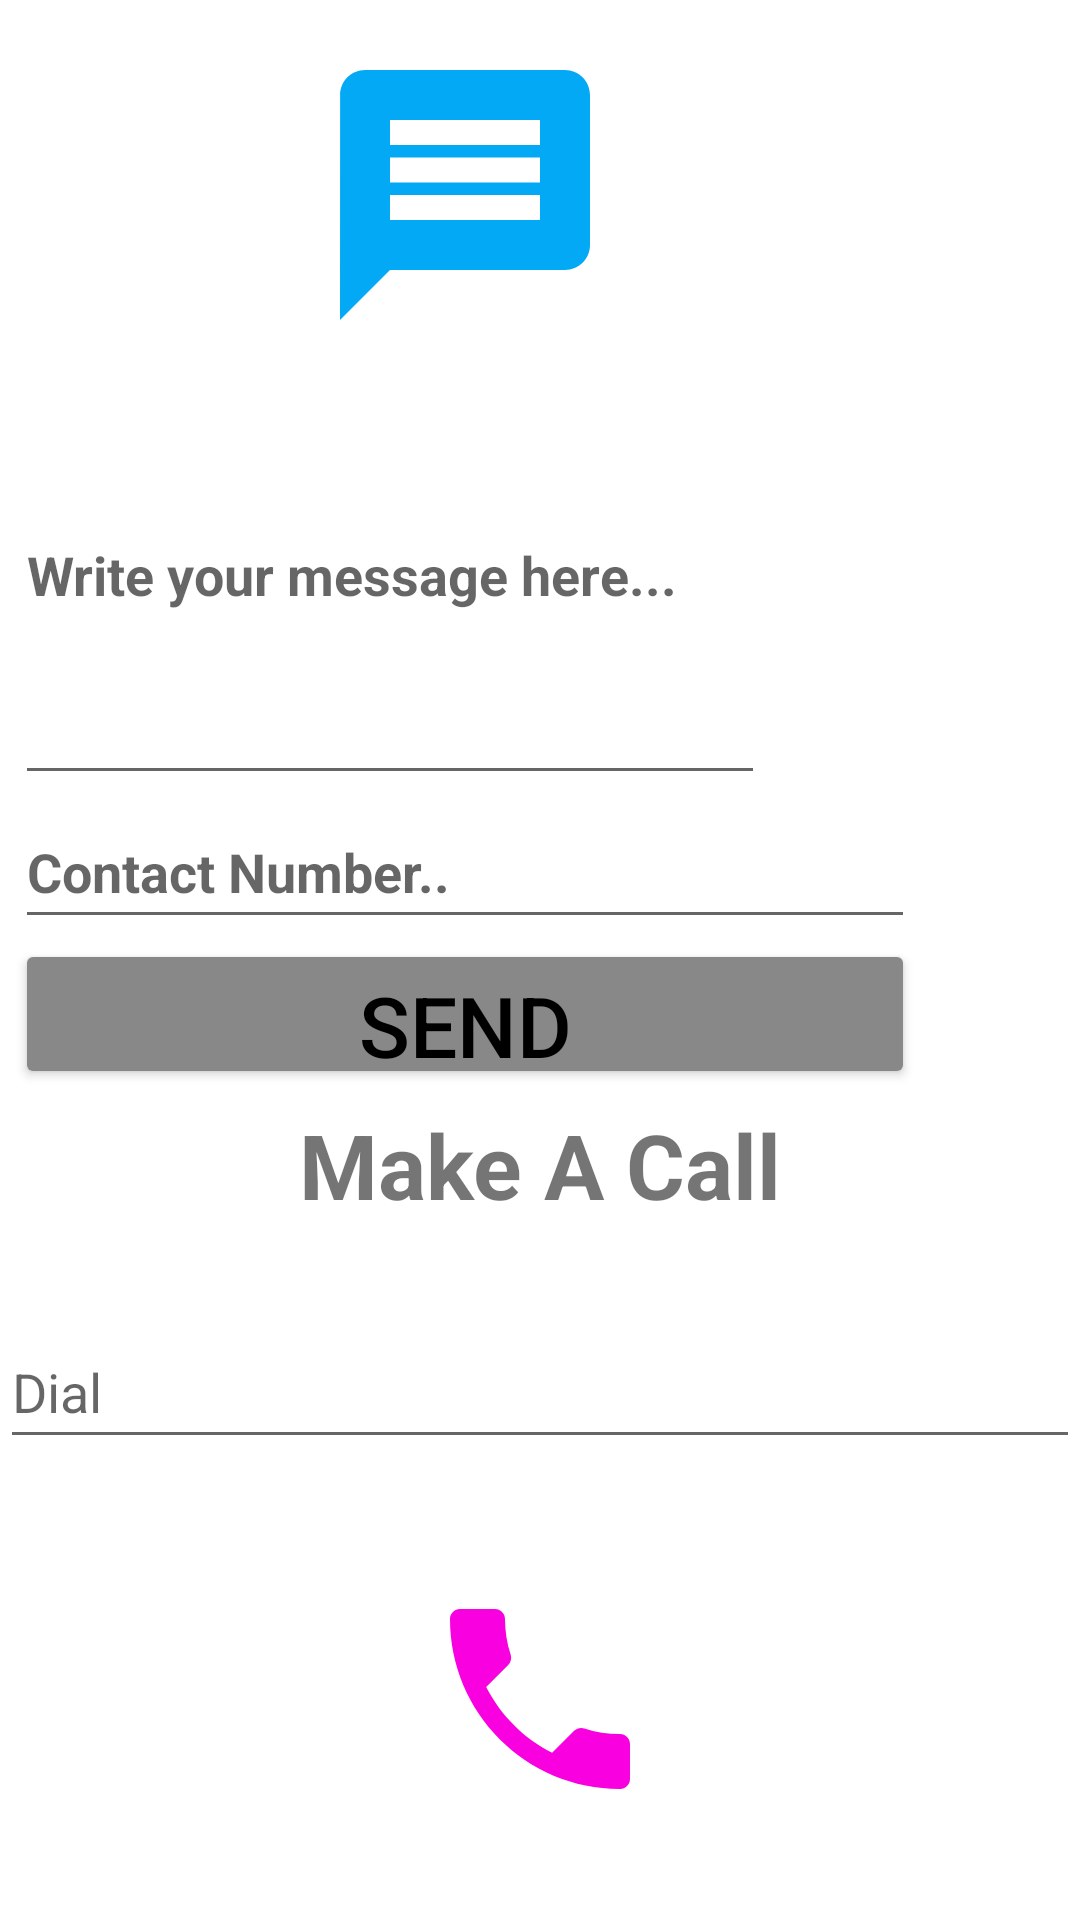

Screen size 1080w x 1920h. Icon name, then its center in pixels as [x,y]:
phone: [540,1699]
